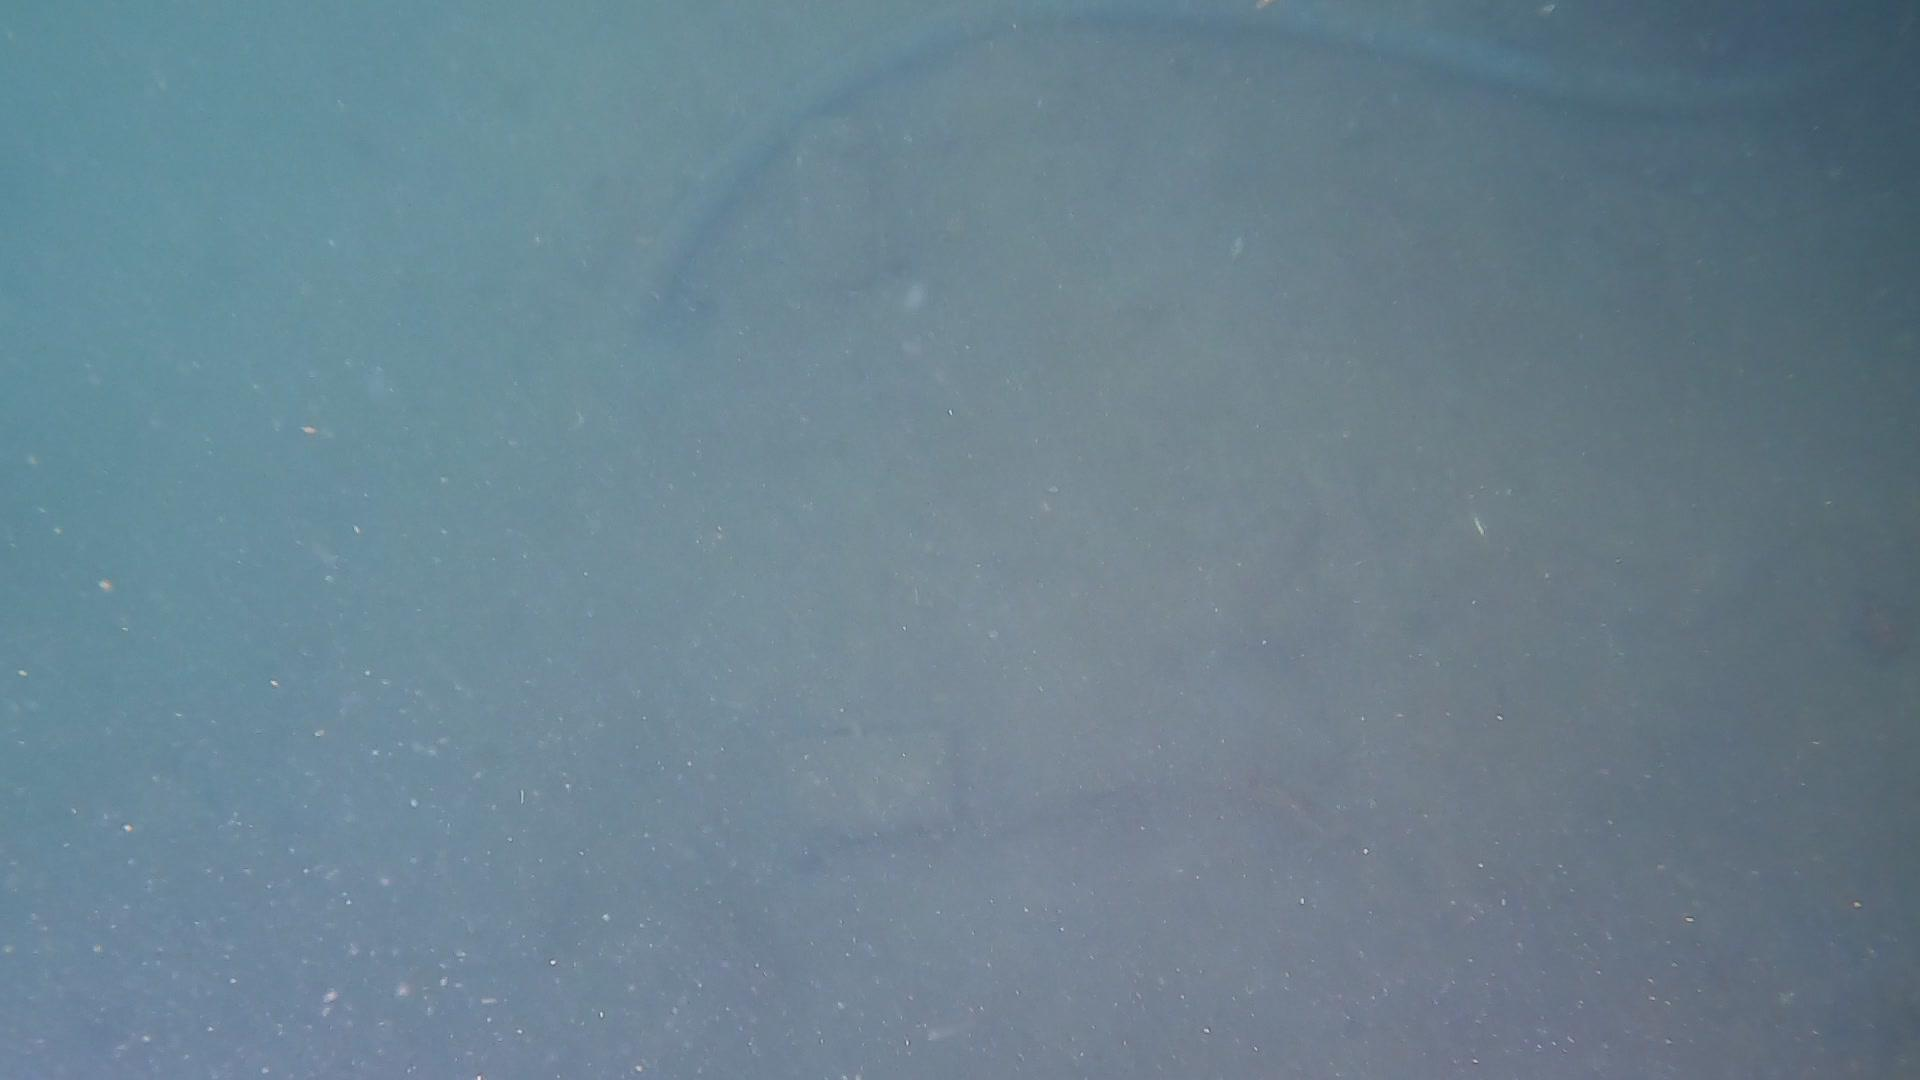other objects: (433, 3, 1899, 349)
